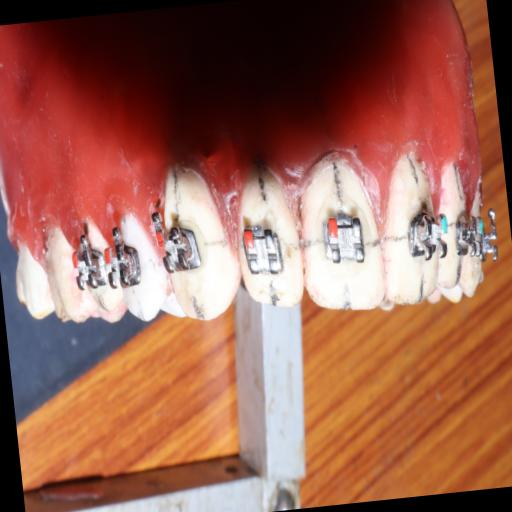incorrect_brace: (230, 170, 308, 314), (320, 204, 370, 272), (240, 221, 284, 276)
